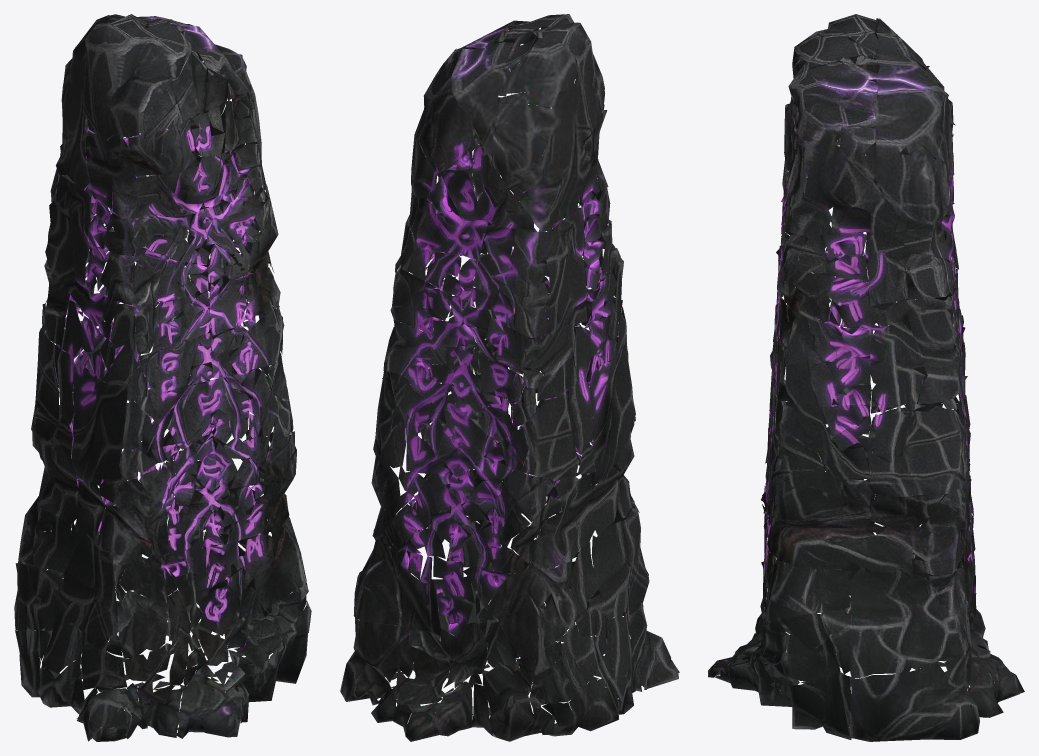
File: storm_stone.glb
3 views of the same model, side by side, from view 1: azimuth 30°, elevation 25°; view 2: azimuth 150°, elevation 25°; view 3: azimuth 270°, elevation 25° (orthographic). The views are drawn at different scales.
Parts seen in each view (by area): view 1: LairStormStone; view 2: LairStormStone; view 3: LairStormStone.
Part boxes in pixels (x1,y1,x2,y2): LairStormStone: [14, 14, 311, 741]; LairStormStone: [340, 14, 679, 741]; LairStormStone: [708, 14, 1024, 741].
Size of the model in its own units: 0.3916 by 1 by 0.4452.
1 material, 1 textured.
